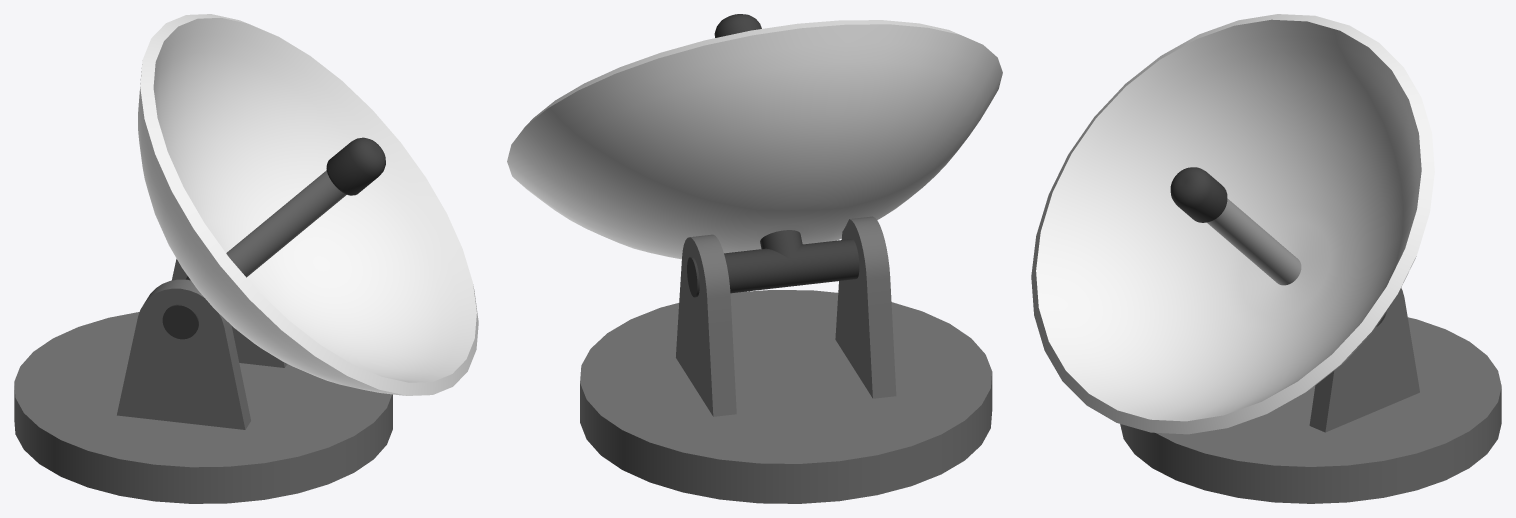
The model's file is satellite_antenna.fbx.
The picture shows the model from 3 angles, left to right: view 1: azimuth 30°, elevation 25°; view 2: azimuth 150°, elevation 25°; view 3: azimuth 270°, elevation 25°; orthographic projection. The views are drawn at different scales.
Parts seen in each view (by area): view 1: Circle.2598; view 2: Circle.2598; view 3: Circle.2598.
Boxes of the visible parts, left/top/right/bottom form: Circle.2598: left=14, top=14, right=478, bottom=503; Circle.2598: left=507, top=14, right=1002, bottom=503; Circle.2598: left=1031, top=14, right=1501, bottom=503.
Bounding box in the file's own units: 222 × 199 × 222.
1 material, 1 textured.
